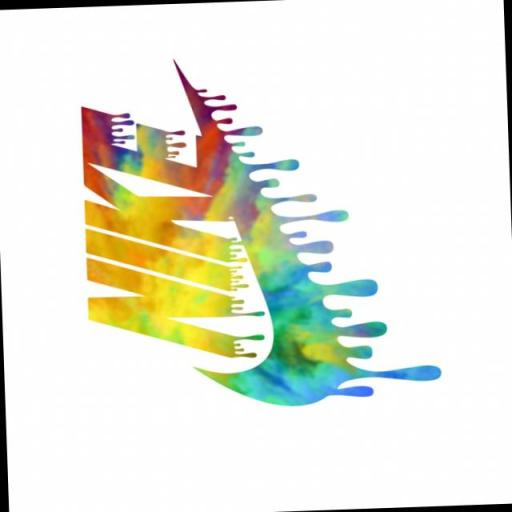Nike: (78, 98, 236, 361), (210, 112, 347, 406)
